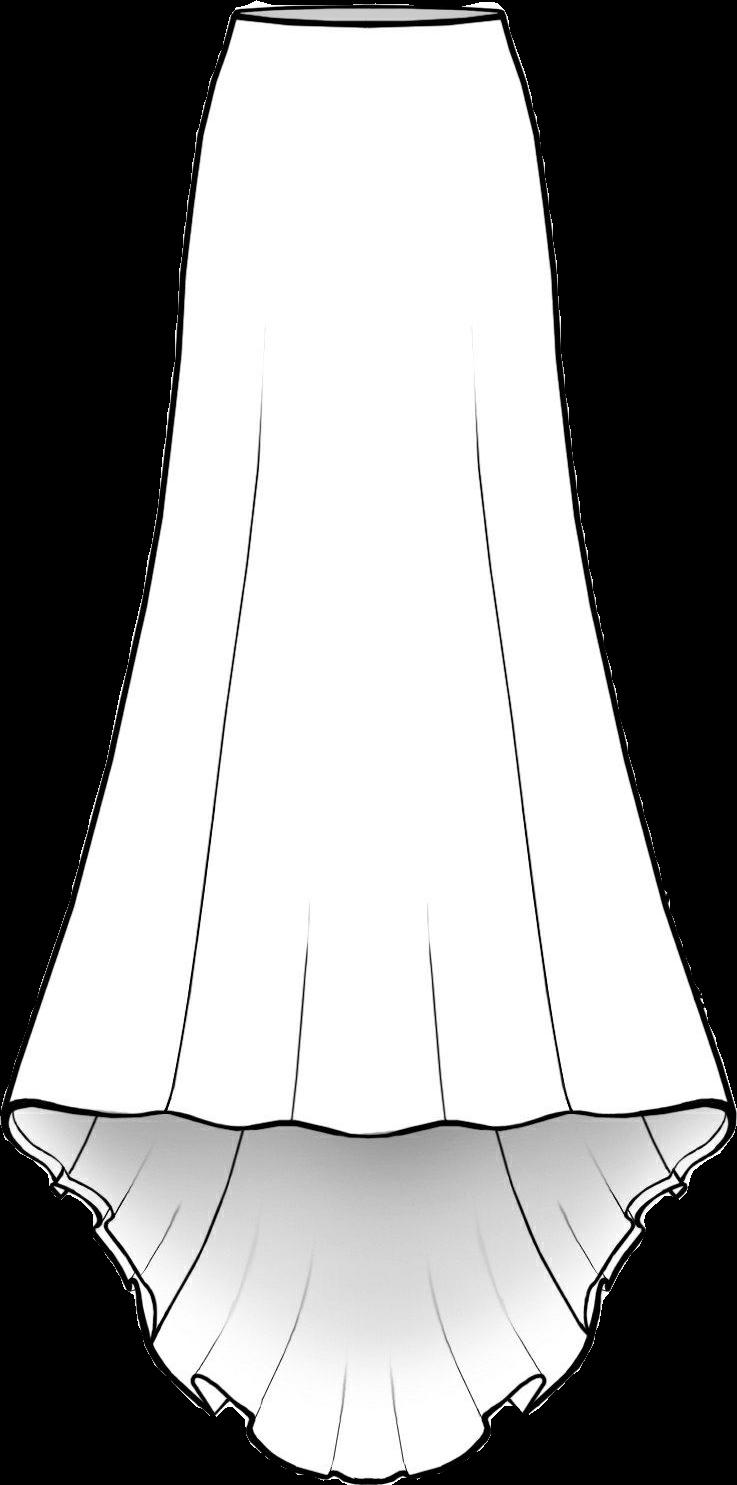Hemline: (0, 1090, 736, 1146)
Waistline: (226, 3, 510, 36)
